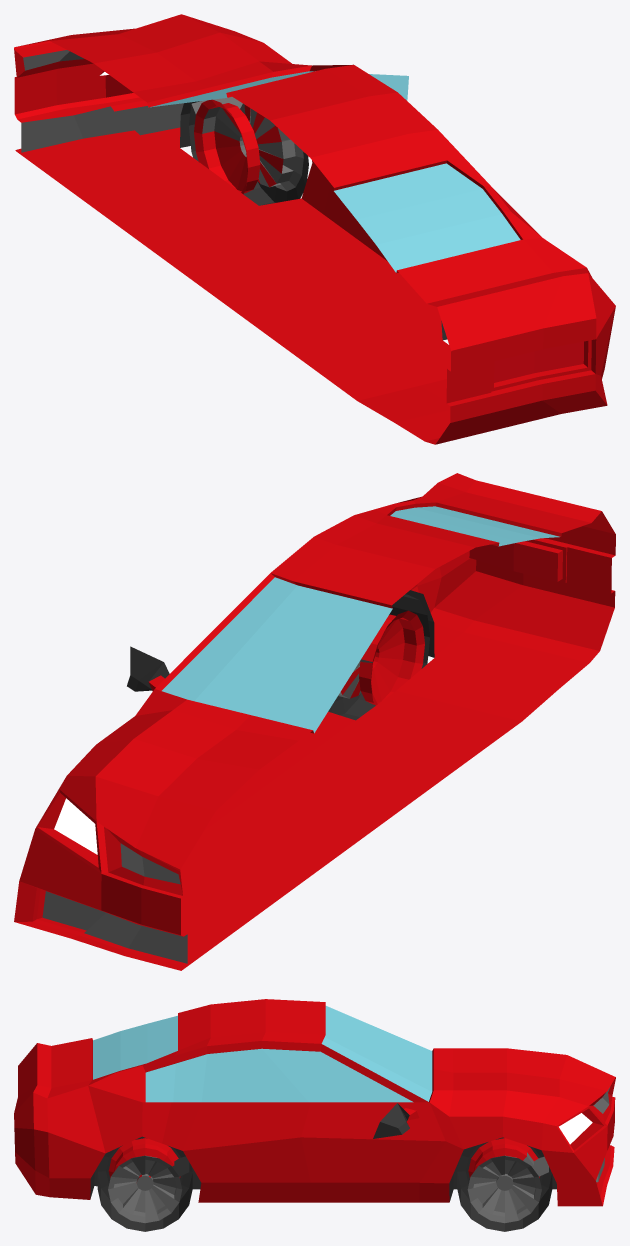
Rendered from car1.glb.
The picture shows the model from 3 angles, top to bottom: view 1: azimuth 30°, elevation 25°; view 2: azimuth 150°, elevation 25°; view 3: azimuth 270°, elevation 25°; orthographic projection. The views are drawn at different scales.
Visible parts, largest first — view 1: Cube; view 2: Cube; view 3: Cube.
Part boxes in pixels (x1,y1,x2,y2): Cube: [14, 14, 615, 444]; Cube: [14, 473, 615, 970]; Cube: [14, 999, 615, 1231].
Size of the model in its own units: 1.29 by 1.4 by 4.42.
